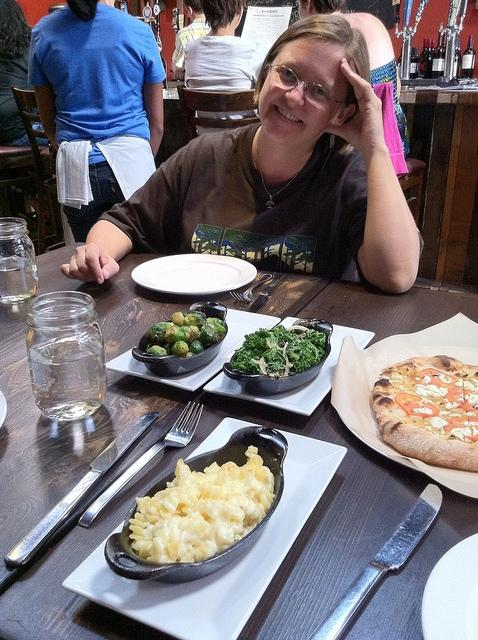brussels sprouts: (146, 322, 176, 344), (200, 318, 225, 343), (184, 310, 208, 331), (164, 325, 186, 345), (172, 340, 188, 358), (180, 326, 196, 344), (188, 338, 204, 354), (170, 312, 188, 326), (146, 345, 168, 356), (161, 344, 173, 356)
